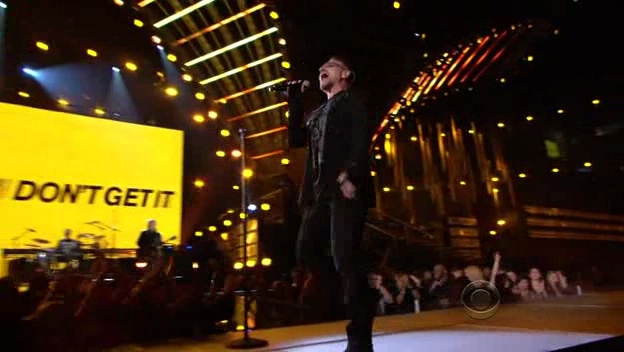person: (296, 59, 375, 240), (293, 59, 372, 240), (299, 59, 378, 240), (296, 56, 375, 237), (296, 62, 375, 243)
target_negative: (84, 18, 407, 124), (408, 322, 450, 340), (203, 348, 612, 349), (185, 328, 196, 351), (256, 325, 371, 326)
